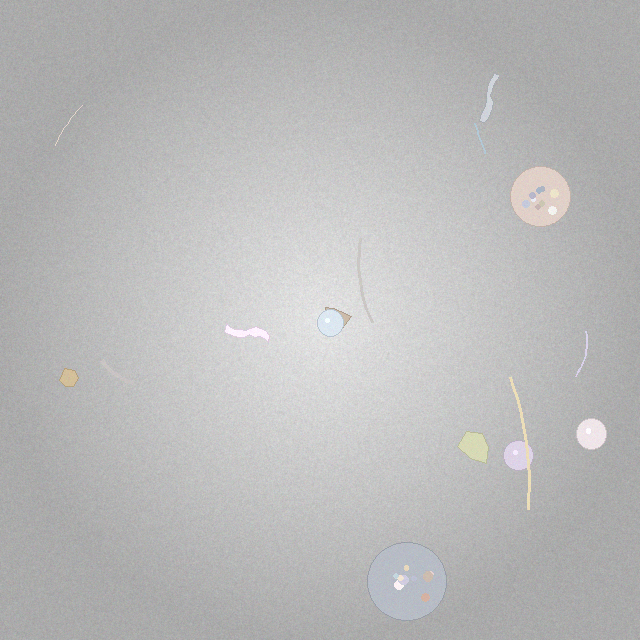fiber: (507, 374, 532, 513), (355, 235, 376, 326), (54, 104, 84, 147), (97, 357, 137, 387), (574, 329, 589, 378), (472, 121, 488, 156)
film: (479, 74, 500, 123), (225, 324, 270, 343)
foam: (368, 542, 446, 621), (510, 167, 570, 227)
fragment: (458, 431, 488, 464), (323, 308, 351, 330), (60, 369, 79, 387)
pellet: (576, 419, 607, 449), (504, 440, 534, 471), (317, 310, 344, 337)
